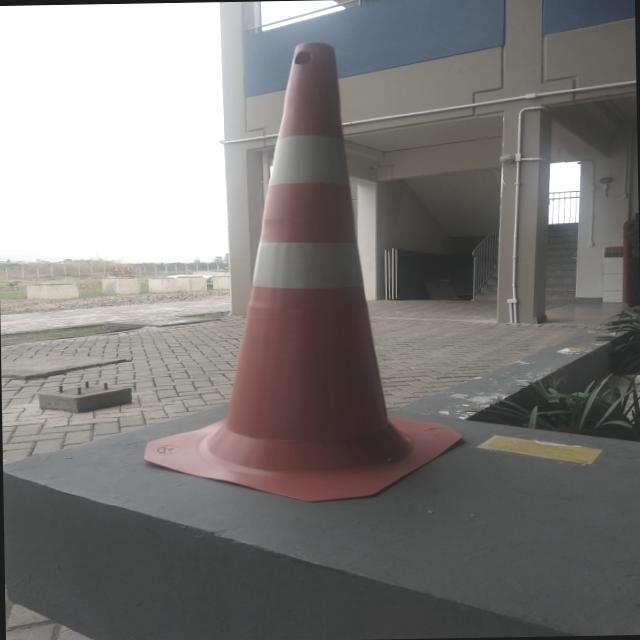cone: (182, 39, 420, 505)
